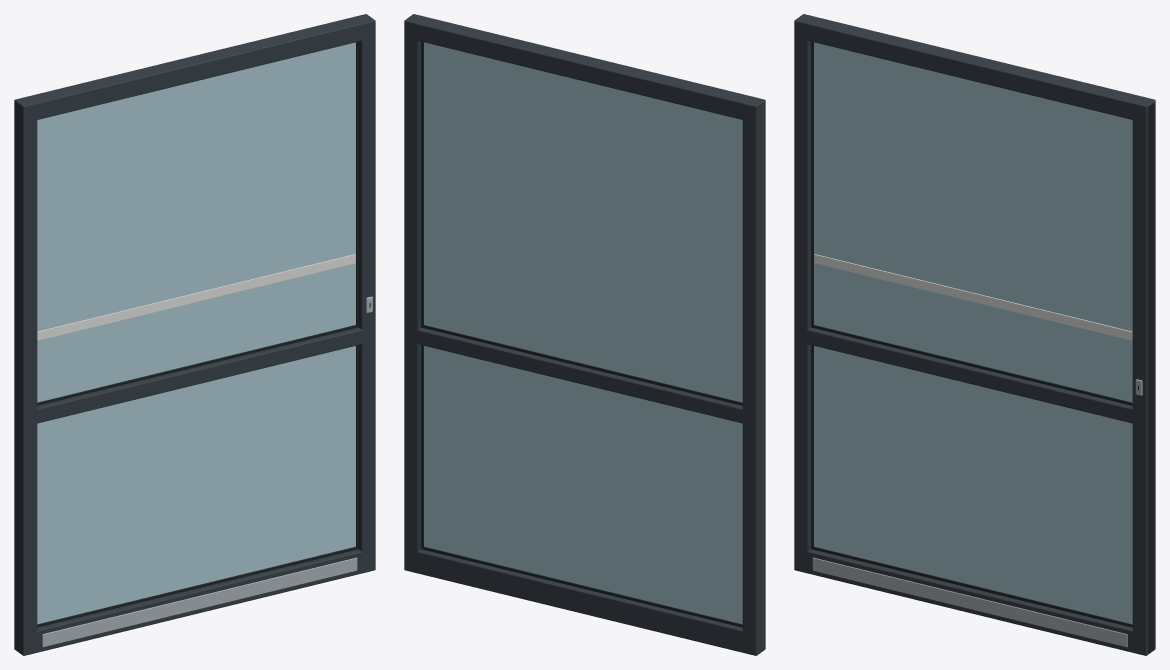
The model's file is 03_Platform_Door_L.fbx.
3 views of the same model, side by side, from view 1: azimuth 30°, elevation 25°; view 2: azimuth 150°, elevation 25°; view 3: azimuth 330°, elevation 25° (orthographic).
Visible parts, largest first — view 1: Platform_Door_L; view 2: Platform_Door_L; view 3: Platform_Door_L.
Part boxes in pixels (x1,y1,x2,y2): Platform_Door_L: [14, 14, 375, 655]; Platform_Door_L: [404, 14, 765, 655]; Platform_Door_L: [794, 14, 1155, 655].
Size of the model in its own units: 1.49 by 2.22 by 0.078.
